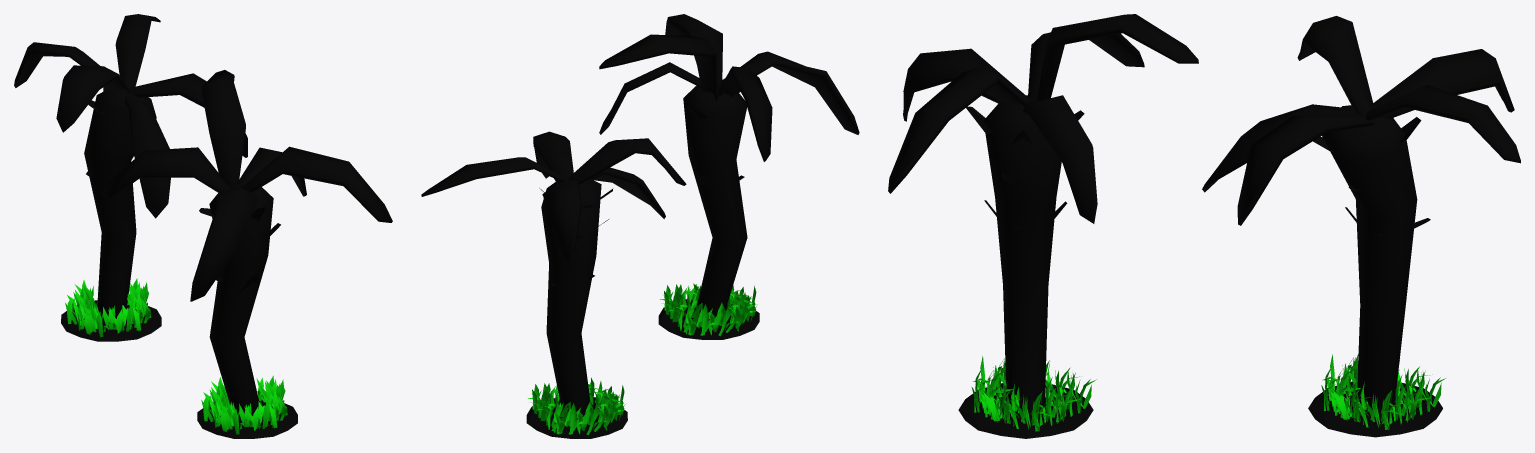
The model's file is SC_Trees.fbx.
The picture shows the model from 3 angles, left to right: view 1: azimuth 30°, elevation 25°; view 2: azimuth 150°, elevation 25°; view 3: azimuth 270°, elevation 25°; orthographic projection. The views are drawn at different scales.
Parts seen in each view (by area): view 1: SC_PalmTree_4, SC_PalmTree_3; view 2: SC_PalmTree_4, SC_PalmTree_3; view 3: SC_PalmTree_3, SC_PalmTree_4.
Boxes of the visible parts, x1,y1,x2,y2 form: SC_PalmTree_4: (101,70,392,438); SC_PalmTree_3: (14,14,247,341); SC_PalmTree_4: (599,14,859,339); SC_PalmTree_3: (421,131,686,438); SC_PalmTree_3: (1202,16,1520,437); SC_PalmTree_4: (888,14,1198,438).
Size of the model in its own units: 3.99 by 5.84 by 8.36.
